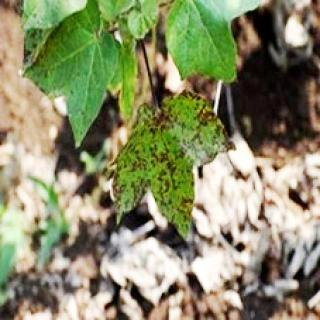leaf spot: (108, 90, 238, 232), (21, 24, 59, 80)
